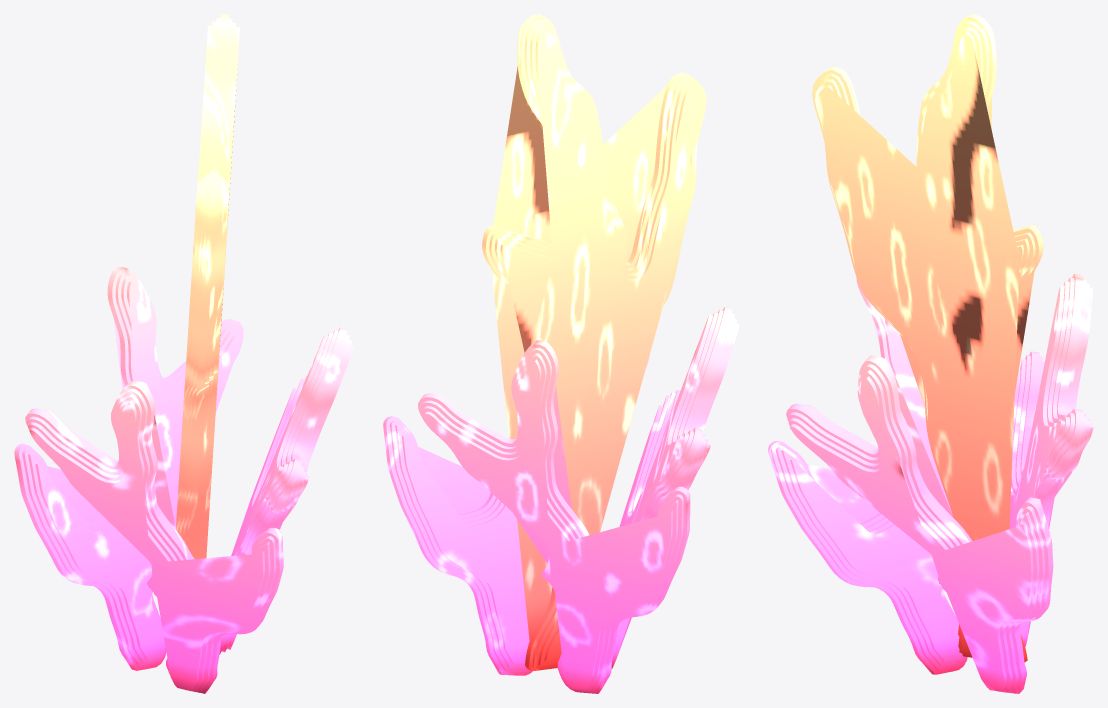
Rendered from adult_001.fbx.
The picture shows the model from 3 angles, left to right: view 1: azimuth 30°, elevation 25°; view 2: azimuth 150°, elevation 25°; view 3: azimuth 270°, elevation 25°; orthographic projection. The views are drawn at different scales.
Visible parts, largest first — view 1: adult.001; view 2: adult.001; view 3: adult.001.
Part boxes in pixels (x1=…): adult.001: x1=14, y1=14, x2=354, y2=693; adult.001: x1=383, y1=14, x2=739, y2=693; adult.001: x1=768, y1=14, x2=1093, y2=693.
Bounding box in the file's own units: 27730 × 56295 × 24473.
